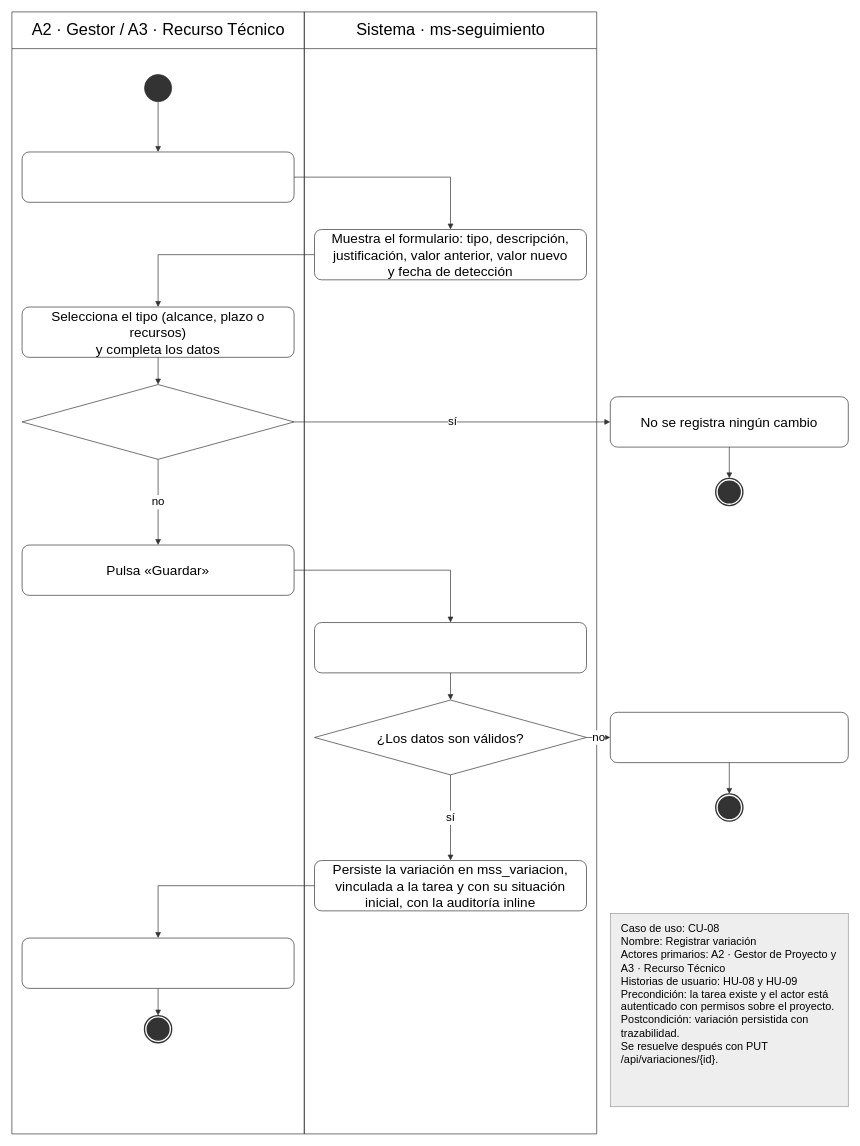
Some shapes in this 860 by 1146 pixel diagram are drawn without their labels. Each missing label, with the centre of its shape:
"Accede a la tarea y elige «Registrar variación»" goes at (157,176).
"El sistema confirma el registro de la variación" goes at (157,962).
"HTTP 400 · Error de validación de campos obligatorios" goes at (729,737).
"Recibe POST /api/variaciones y valida los campos obligatorios" goes at (450,647).
"¿Cancela antes de guardar?" goes at (157,421).
